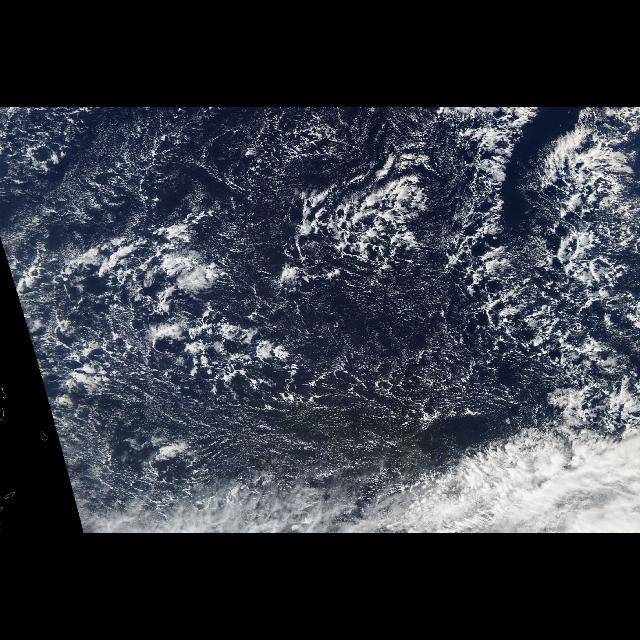Fish: (502, 111, 640, 236)
Gravel: (152, 108, 636, 422)
Sugar: (1, 107, 517, 505)
